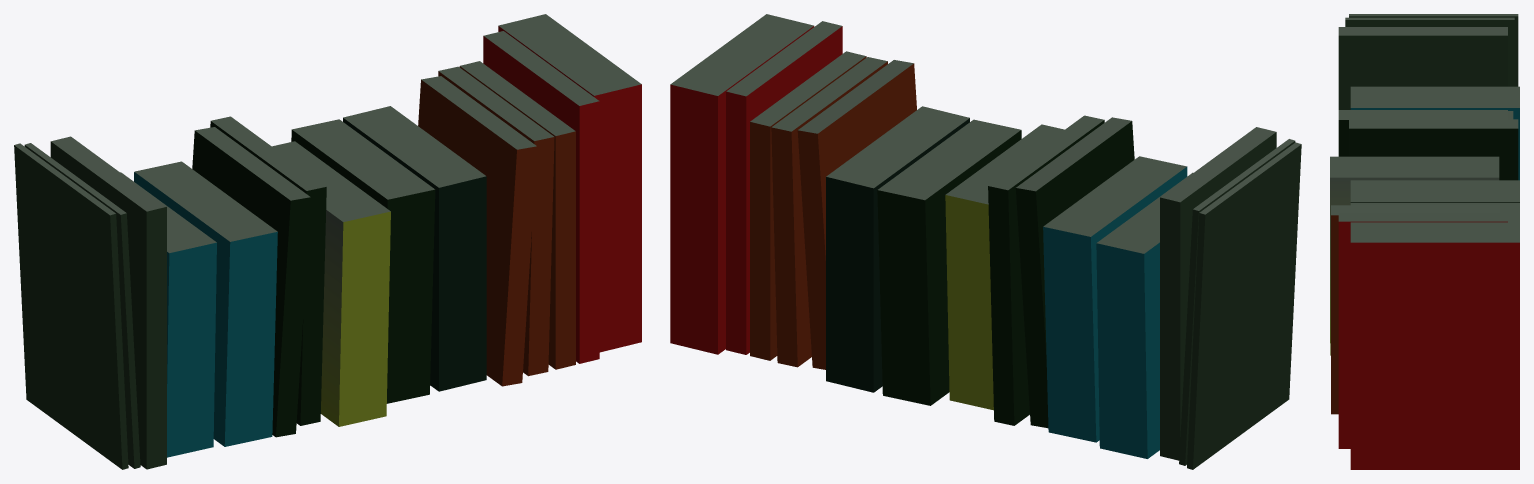
The model's file is BookB.fbx.
3 renders of one model, left to right at view 1: azimuth 30°, elevation 25°; view 2: azimuth 150°, elevation 25°; view 3: azimuth 270°, elevation 25°, orthographic. The views are drawn at different scales.
Visible parts, largest first — view 1: BookB; view 2: BookB; view 3: BookB.
Boxes of the visible parts, x1=… form: BookB: x1=14, y1=14, x2=641, y2=469; BookB: x1=670, y1=14, x2=1301, y2=469; BookB: x1=1330, y1=14, x2=1519, y2=469.
Size of the model in its own units: 0.032 by 0.0149 by 0.0112.
